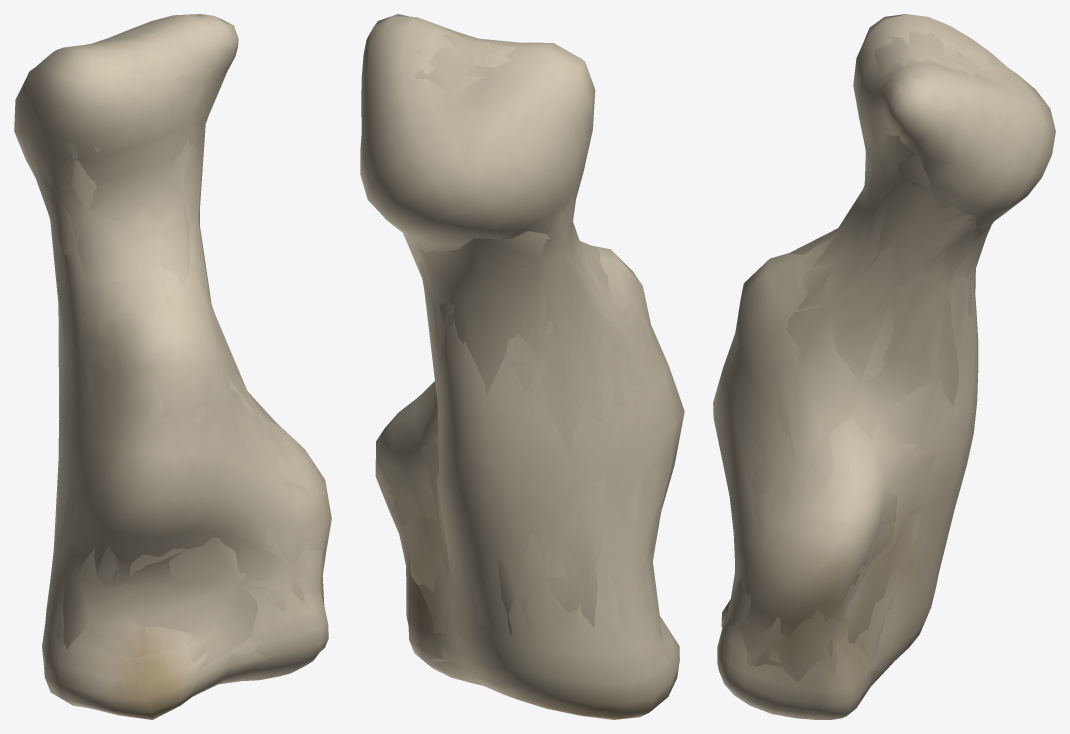
The model's file is R calcaneus.fbx.
3 renders of one model, left to right at view 1: azimuth 30°, elevation 25°; view 2: azimuth 150°, elevation 25°; view 3: azimuth 270°, elevation 25°, orthographic. The views are drawn at different scales.
Visible parts, largest first — view 1: R calcaneus high, R calcaneus low, R calcaneus; view 2: R calcaneus high, R calcaneus low, R calcaneus; view 3: R calcaneus high, R calcaneus, R calcaneus low.
Part boxes in pixels (x1=…): R calcaneus high: x1=14, y1=14, x2=331, y2=719; R calcaneus low: x1=53, y1=40, x2=304, y2=694; R calcaneus: x1=32, y1=22, x2=324, y2=696; R calcaneus high: x1=360, y1=14, x2=684, y2=719; R calcaneus low: x1=398, y1=92, x2=662, y2=640; R calcaneus: x1=385, y1=27, x2=661, y2=681; R calcaneus high: x1=713, y1=14, x2=1055, y2=719; R calcaneus: x1=728, y1=31, x2=988, y2=699; R calcaneus low: x1=727, y1=70, x2=992, y2=659.
Bounding box in the file's own units: 4.39 × 9.94 × 4.8.
